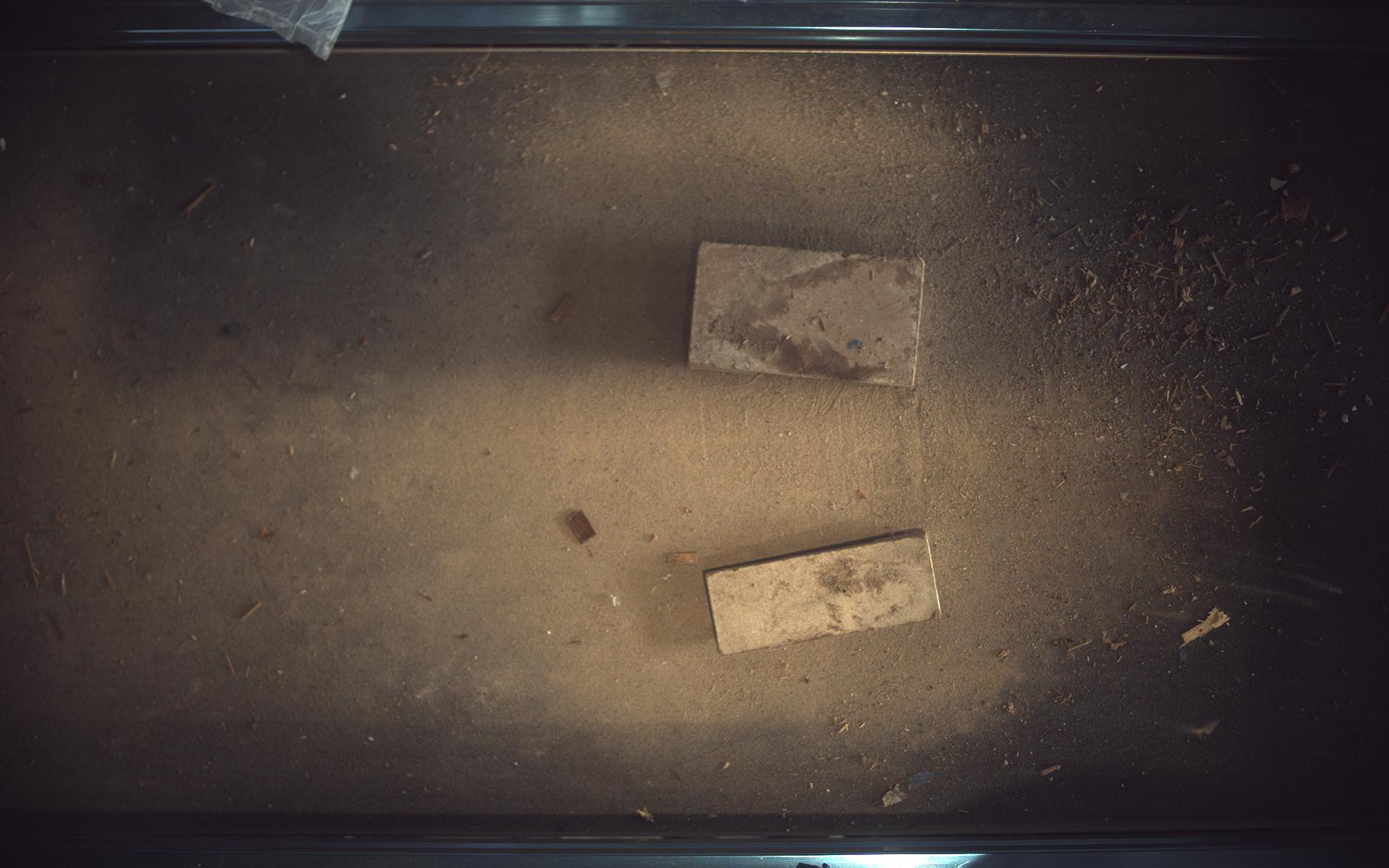wood: (689, 242, 925, 387), (705, 529, 943, 655)
